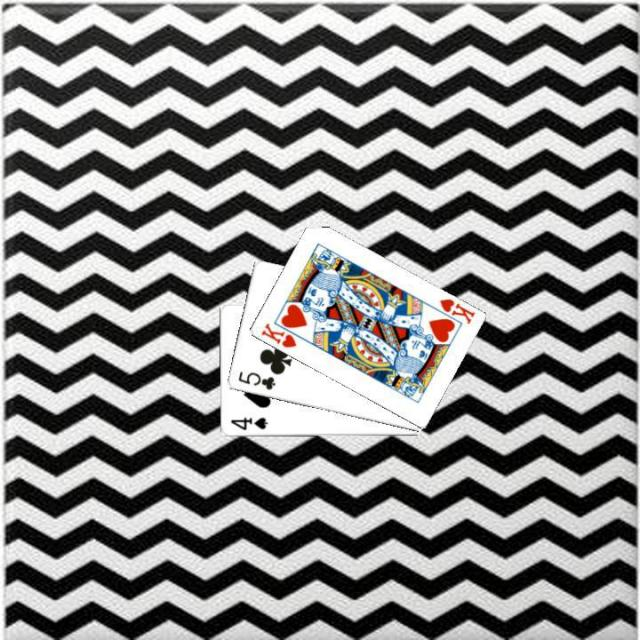4S: (226, 413, 268, 432)
5C: (234, 368, 276, 392)
KH: (257, 319, 298, 350), (436, 295, 476, 326)
